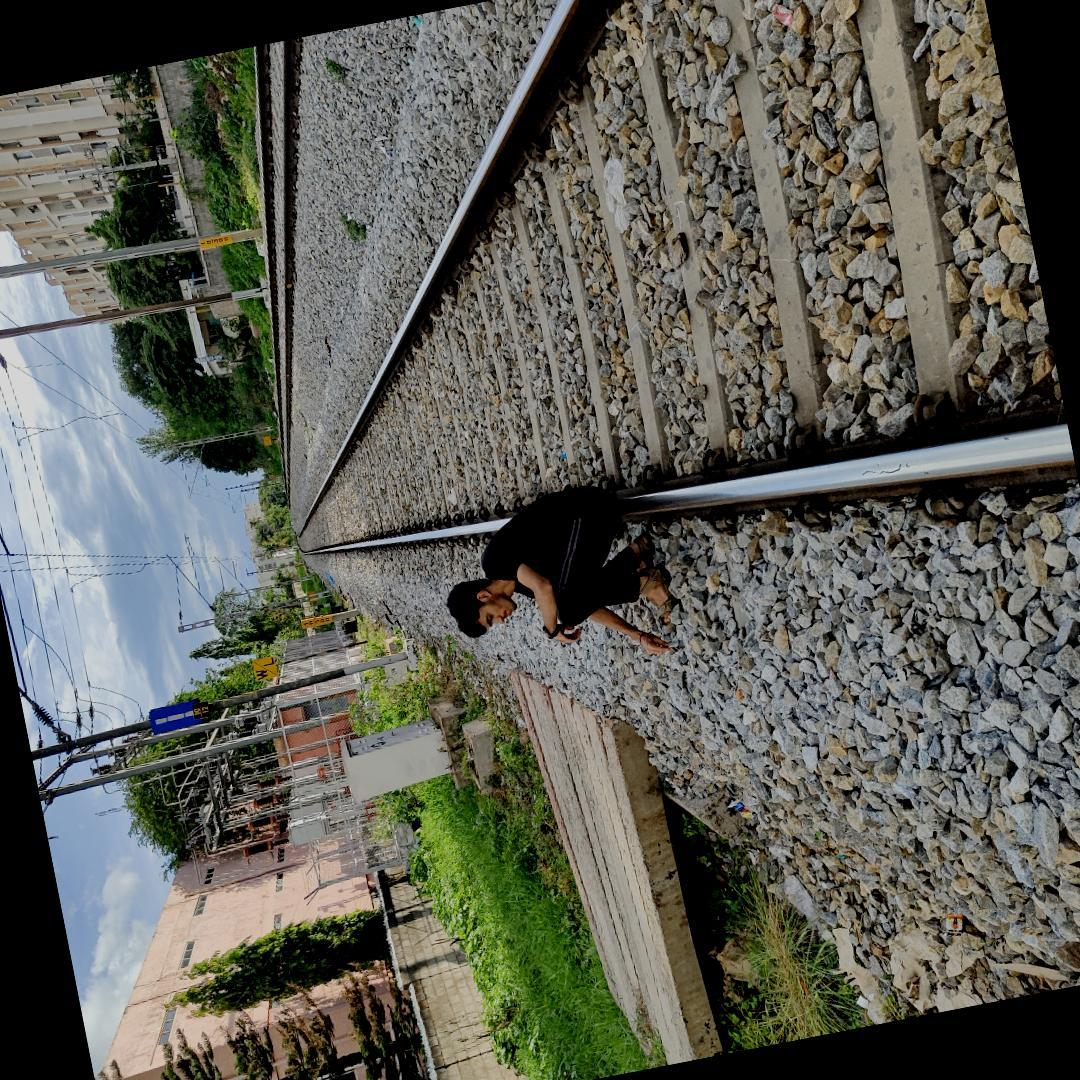sitting: (438, 471, 705, 671)
